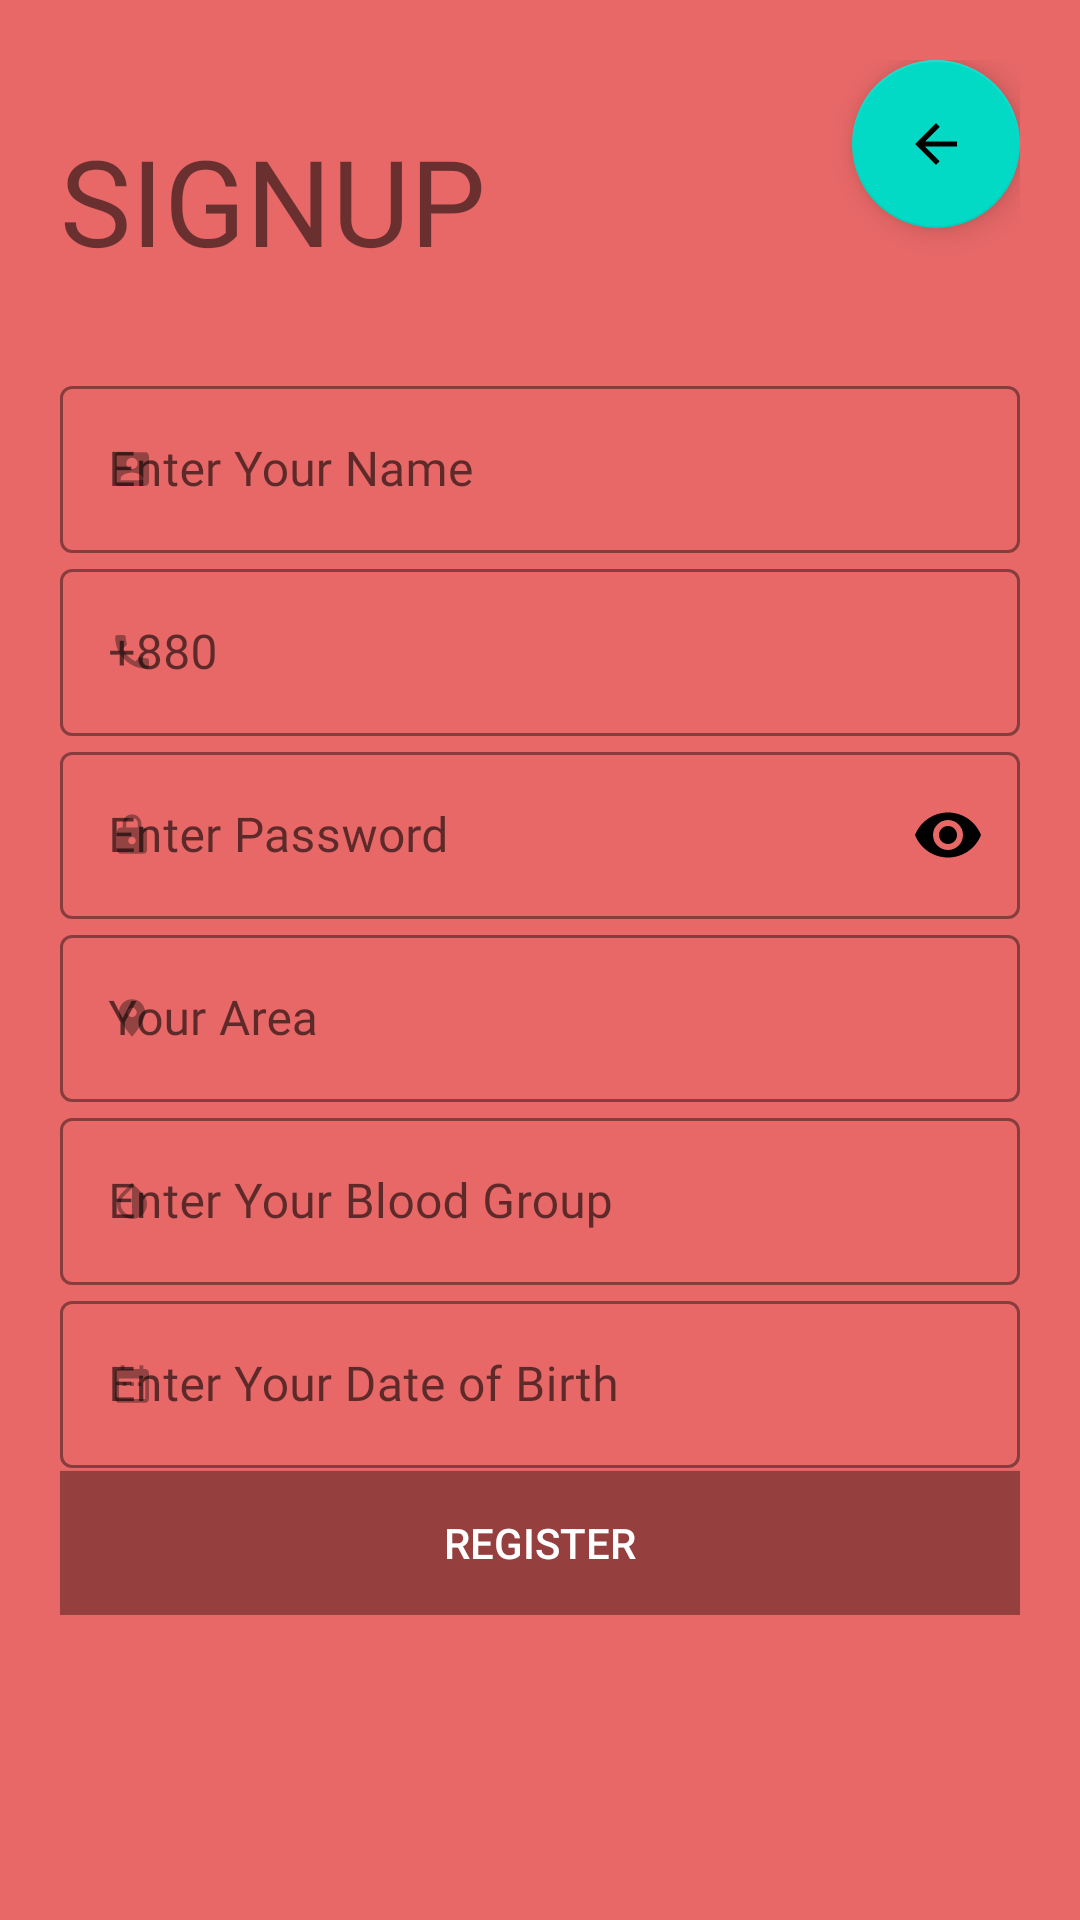

Screen size 1080px x 1920px. Icon name, then its center in pixels as [x,y]:
back: [936,144]
